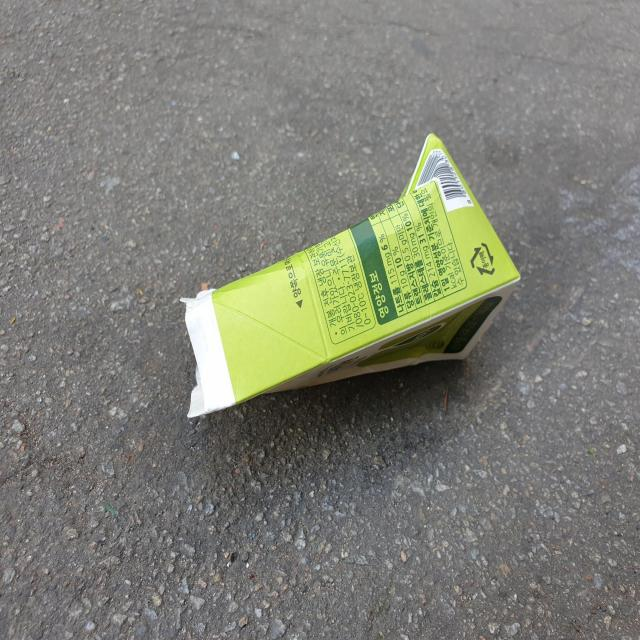paperpack: (182, 133, 521, 418)
